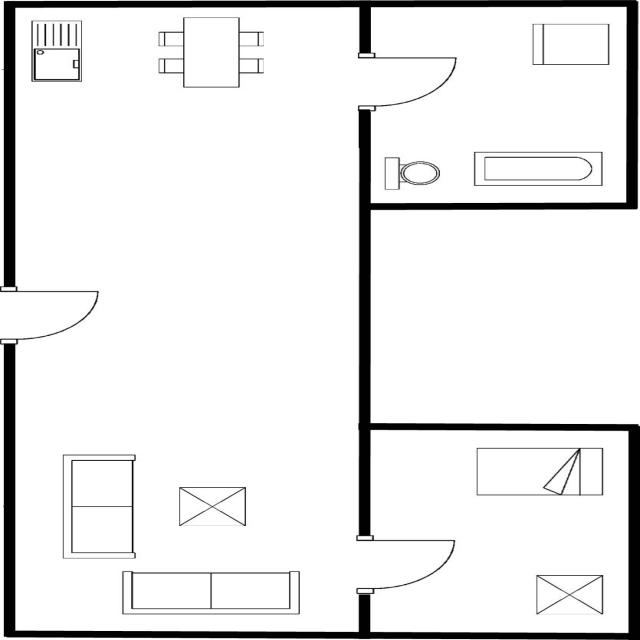bed: (470, 444, 612, 501)
coffee_table: (530, 571, 606, 618), (173, 484, 252, 528)
dining_table: (152, 14, 270, 91)
large_sink: (379, 154, 443, 196)
large_sofa: (116, 568, 306, 619), (57, 450, 141, 562)
sink: (24, 17, 89, 84)
small_sofa: (526, 20, 615, 70)
tub: (466, 148, 610, 188)
